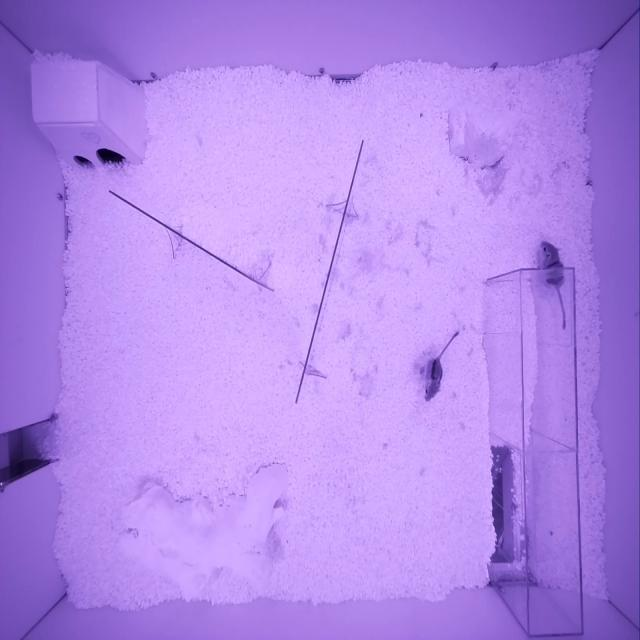pup_h_stripe: (537, 240, 565, 289)
pup_v_stripe: (424, 357, 443, 403)
